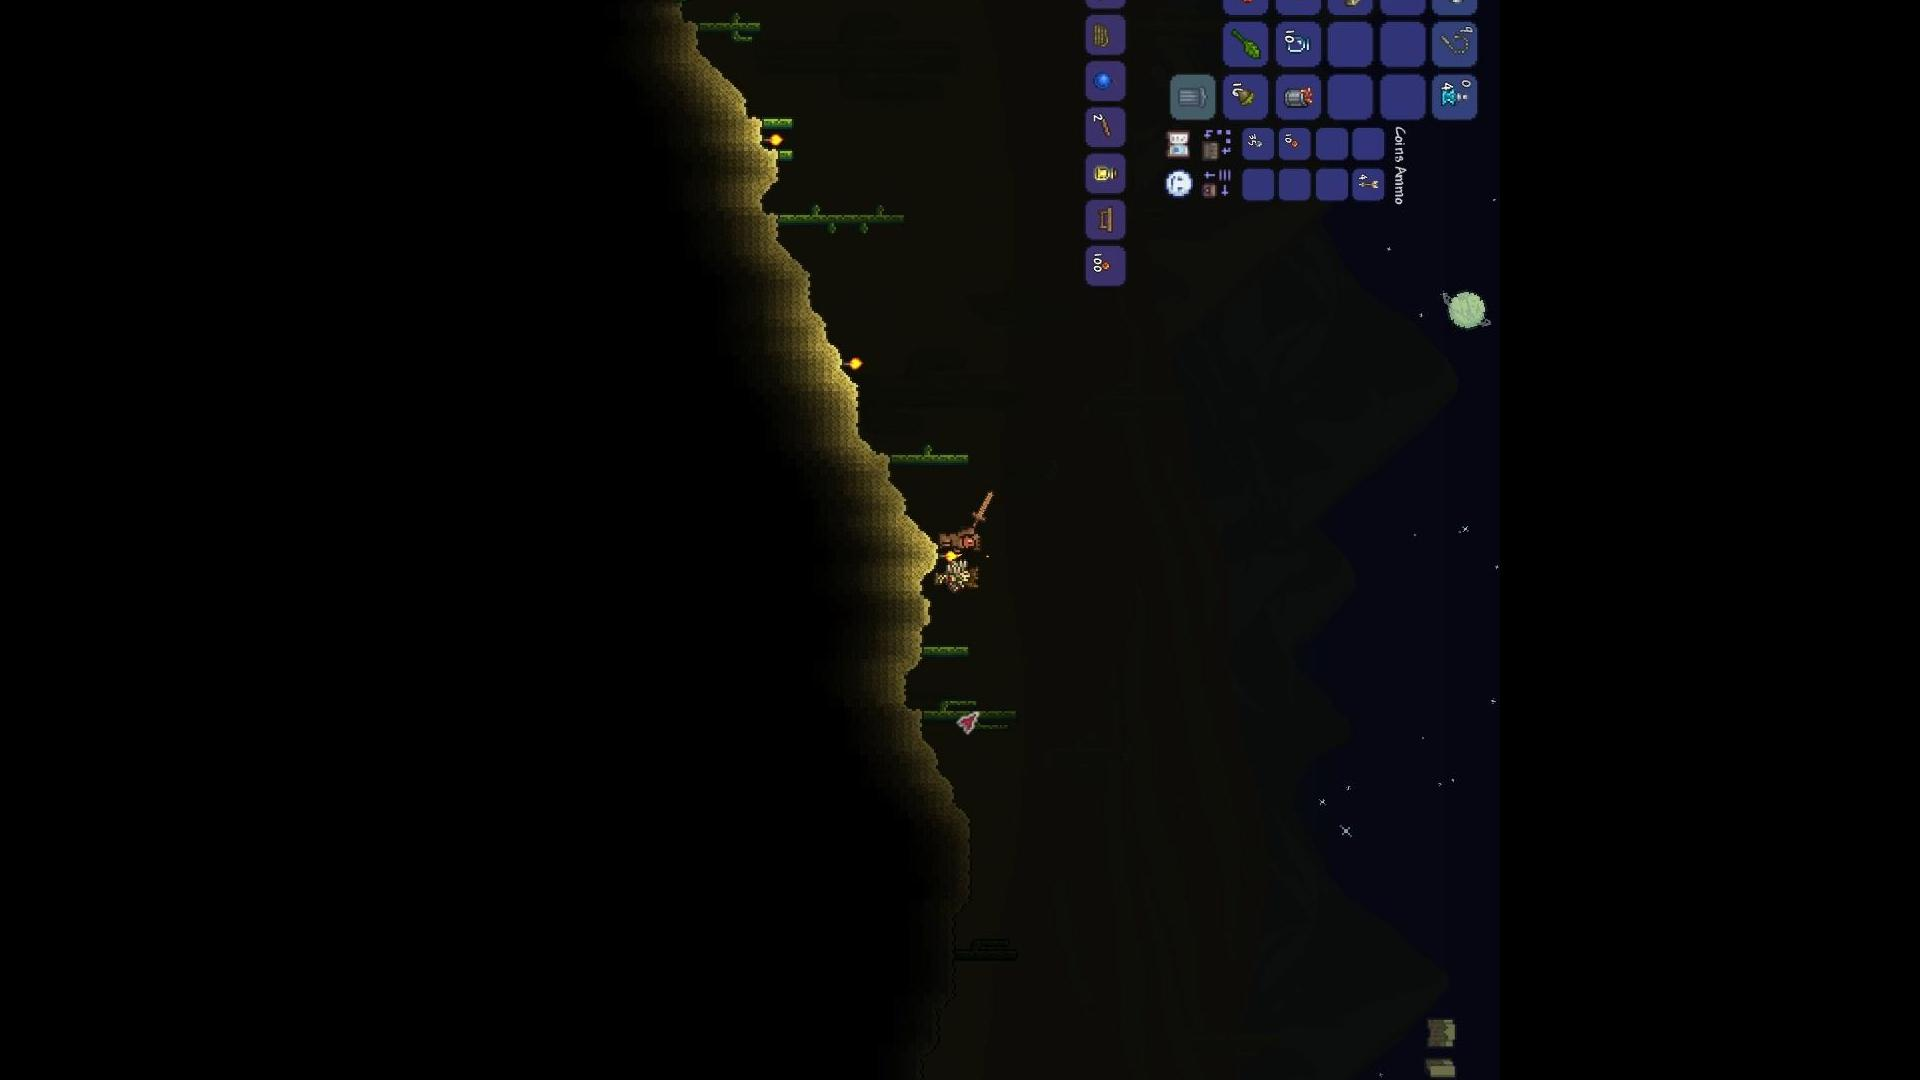sand: (678, 18, 781, 185), (807, 327, 884, 467), (891, 560, 936, 775), (750, 195, 822, 320), (934, 771, 978, 878), (881, 473, 934, 556)
